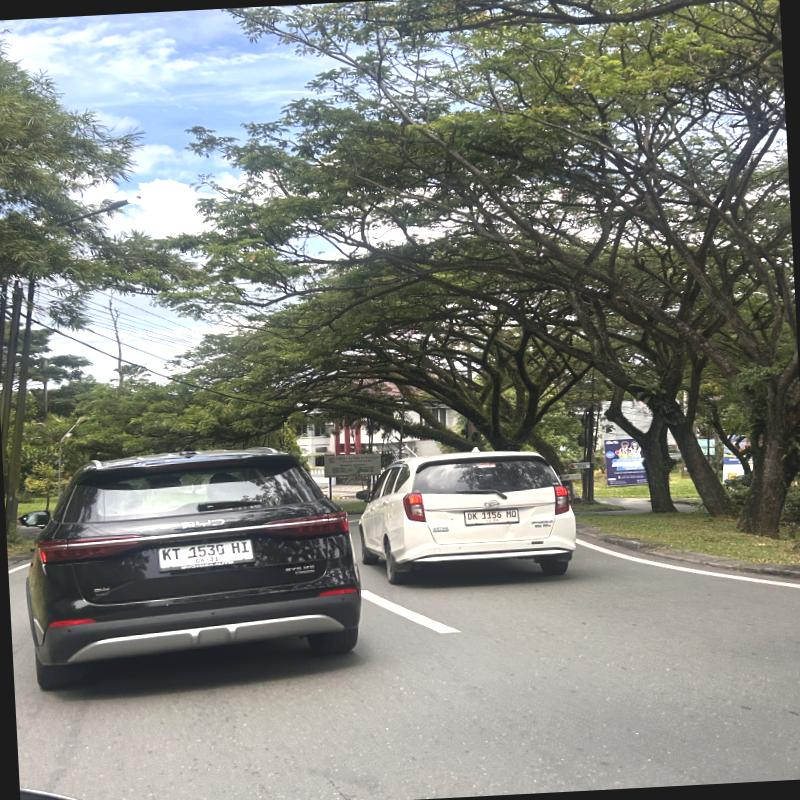license plate on a car: (159, 540, 253, 570), (465, 509, 518, 526)
